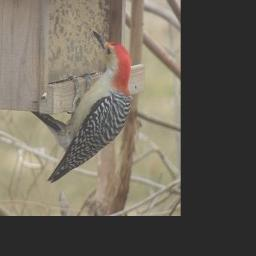Woodpecker: (37, 29, 136, 178)
